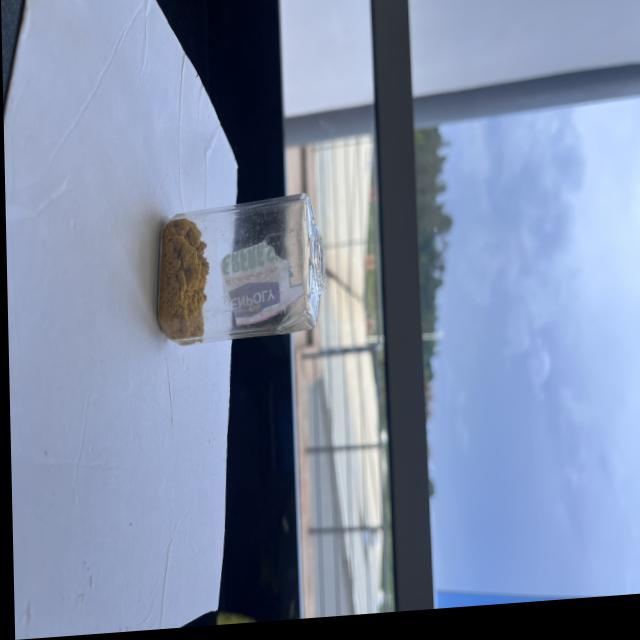curry_powder: (152, 221, 208, 351)
